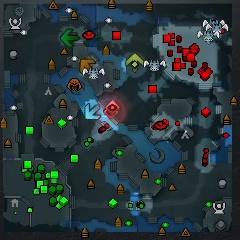Other: (105, 99, 119, 118)
x2: (127, 54, 144, 72)
x3: (84, 103, 100, 120)
x4: (61, 29, 79, 46)
x5: (79, 59, 96, 71)
